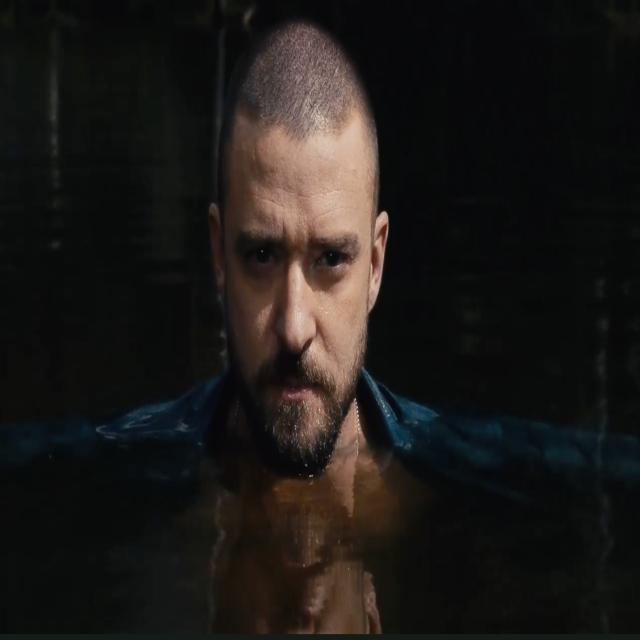human: (100, 1, 524, 499)
